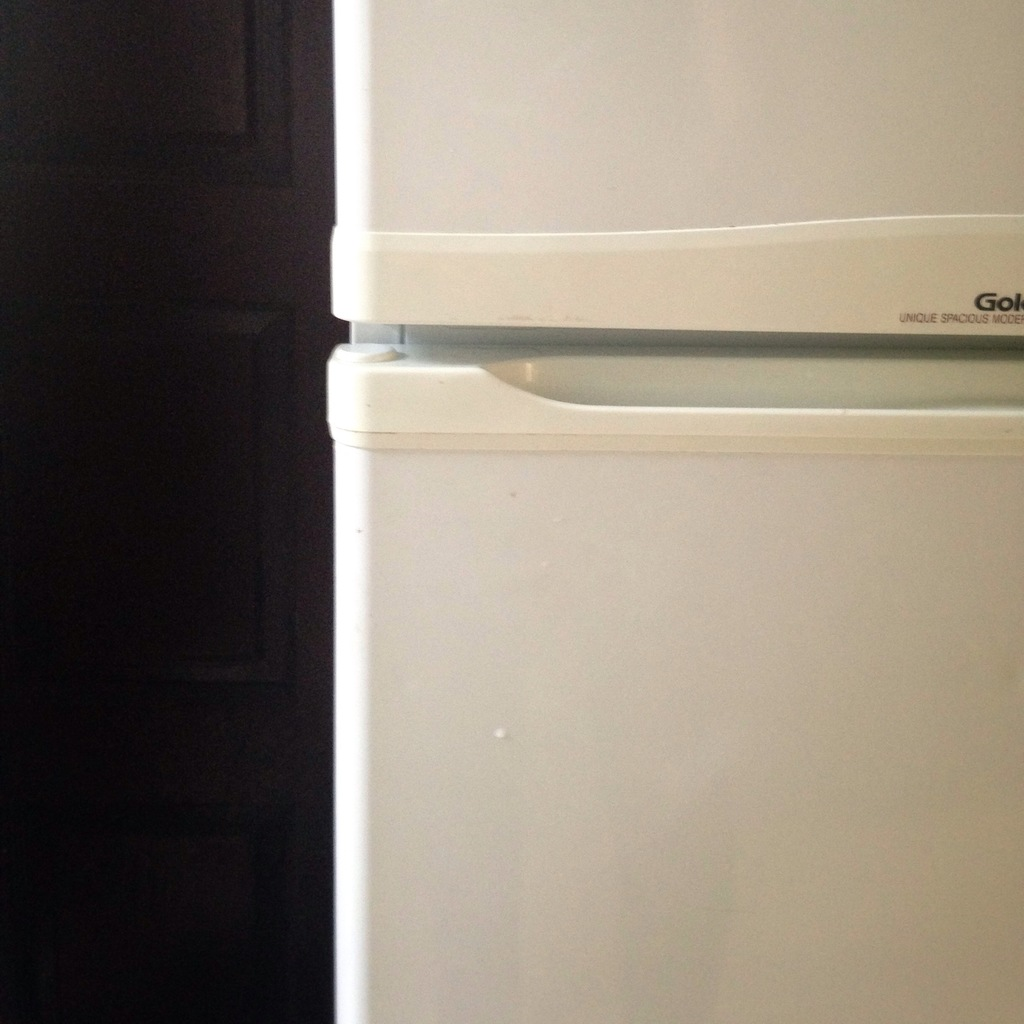handle: (515, 344, 1024, 476)
refrigerator door: (337, 354, 1024, 1023), (340, 16, 1024, 354)
